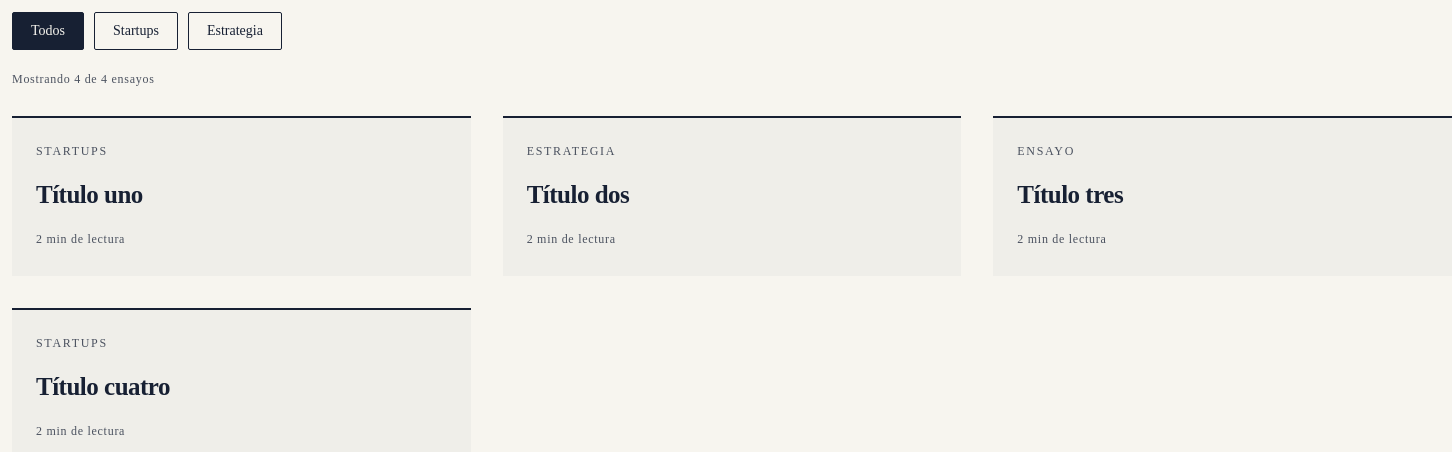
Test: EssayBrowser with the Spanish locale › filters by the English topic key while showing the Spanish label
Click the button "Estrategia" at (235, 31), box [188, 12, 282, 50]
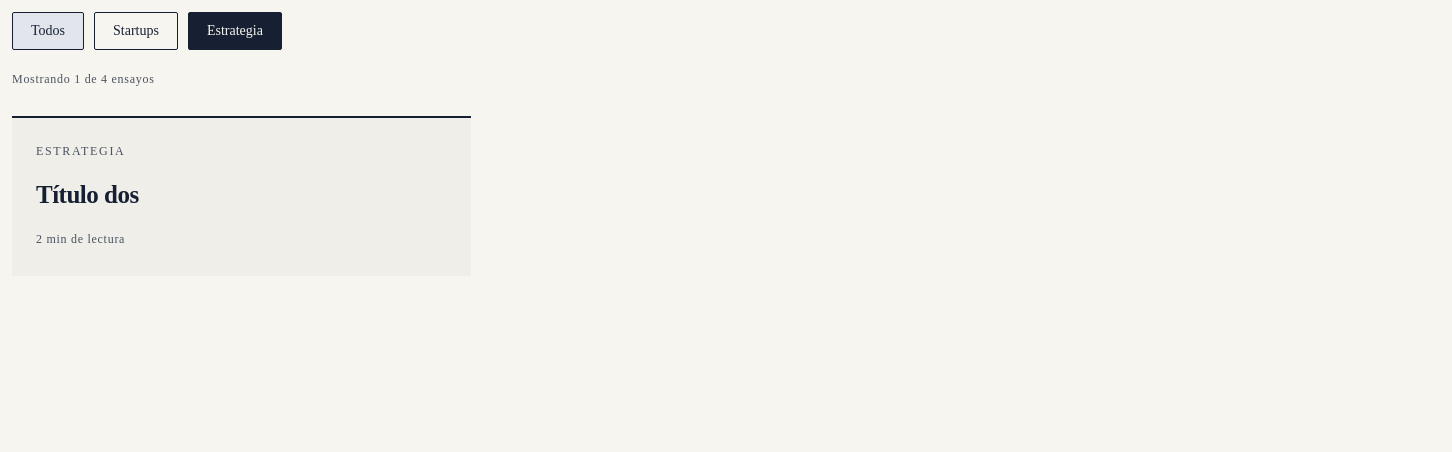
Check: the link "Título dos" is shown, box [36, 181, 139, 208]
Check: the message reads "Mostrando 1 de 4 ensayos", box [12, 72, 155, 86]
